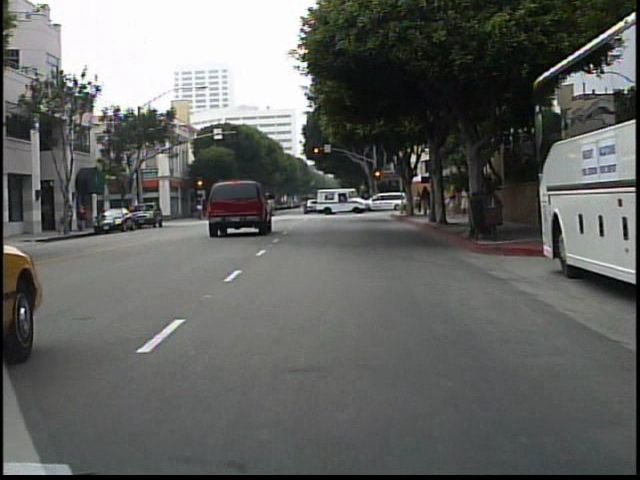person: (447, 183, 462, 222), (461, 181, 471, 220)
